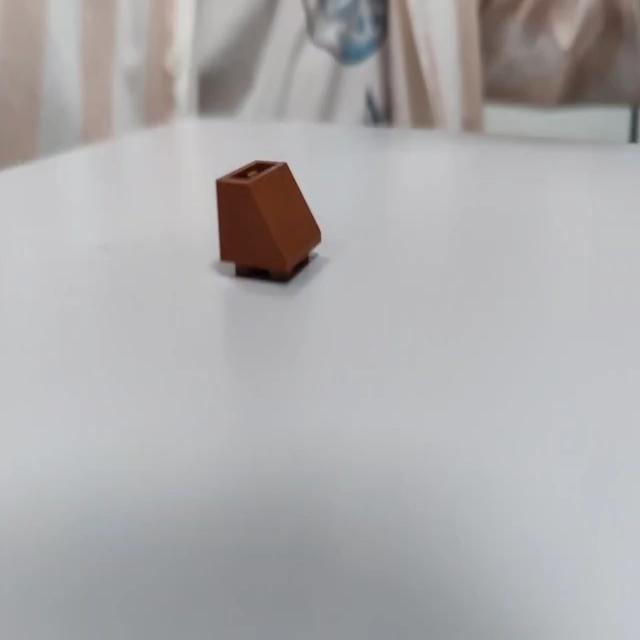X2x2x1: (215, 156, 322, 282)
